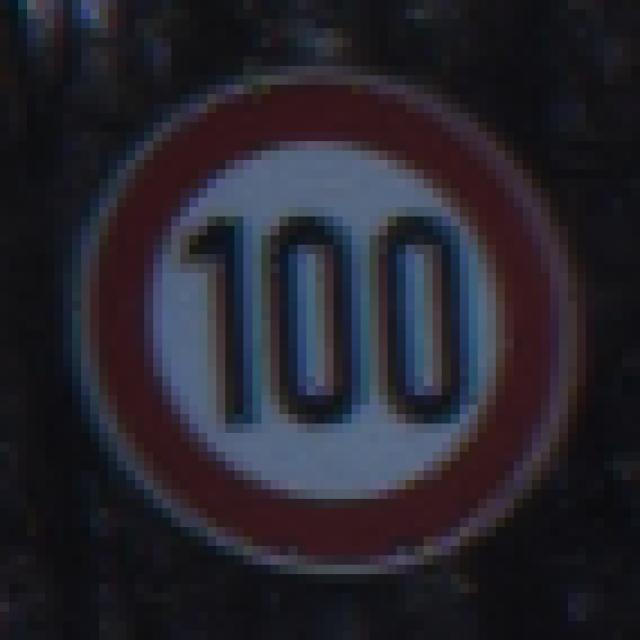speed limit 100: (74, 64, 581, 579)
